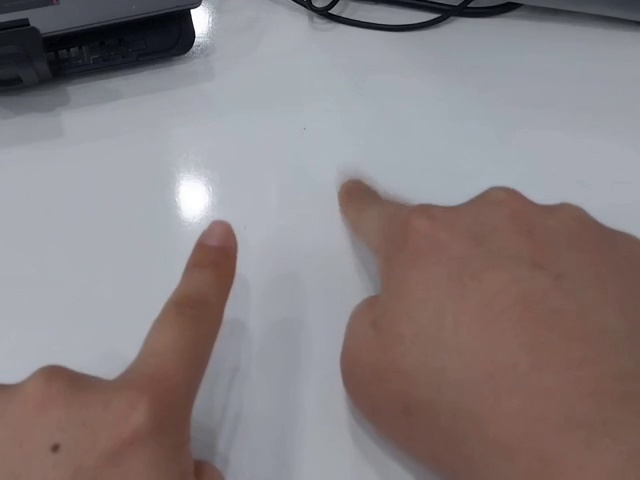fingers: (188, 220, 239, 278), (336, 177, 382, 226)
